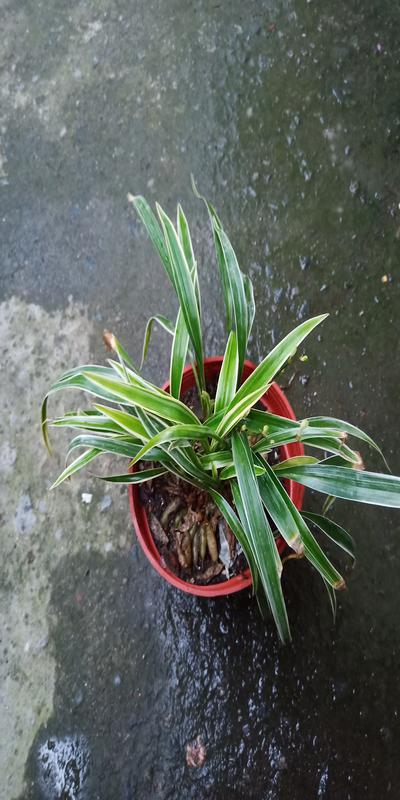Yellow and green leaf: (47, 260, 382, 605)
